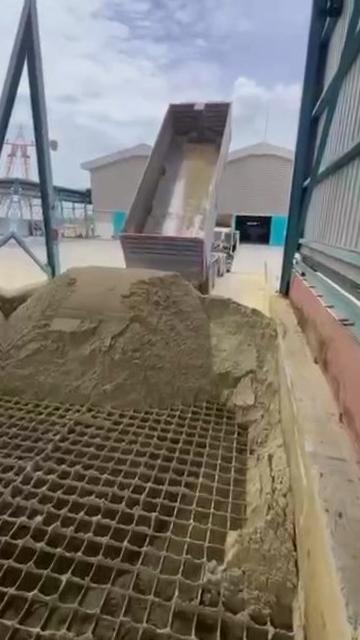sand: (1, 268, 296, 617)
